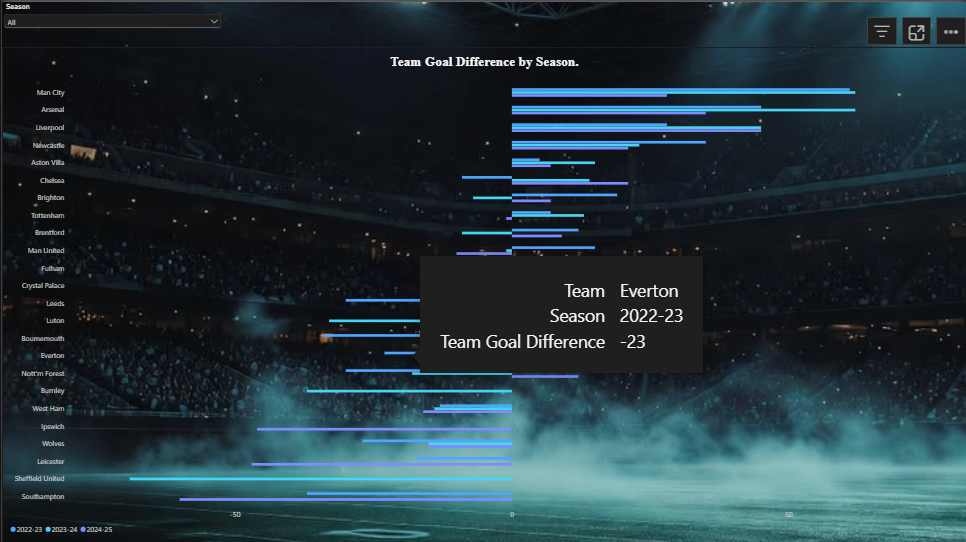

The page's visual inventory and layout, read from the dashboard file:
{"tool":"powerbi","page":{"name":"Goal Diff","canvas":[1920,1080],"ordinal":3},"visuals":[{"type":"clusteredBarChart","title":"Team Goal Difference by Season.","fields":{"Category":["TeamPerformance.Team"],"Series":["TeamPerformance.Season"],"Y":["TeamPerformance.Team Goal Difference"]},"box":[0,89.5,1920,989.8],"z":0},{"type":"slicer","fields":{"Values":["EPL_ALL_SEASON.Season"]},"box":[0,0,440.2,69.6],"z":1000}]}

Visuals, with their boxes in screenshot pixels (x1, y1, x2, y2), scaled from the page's 1920x1080 canvas onto the 966x542 screenshot:
"Team Goal Difference by Season." clusteredBarChart: BBox(0, 45, 965, 541)
slicer - EPL_ALL_SEASON.Season: BBox(0, 0, 221, 35)
